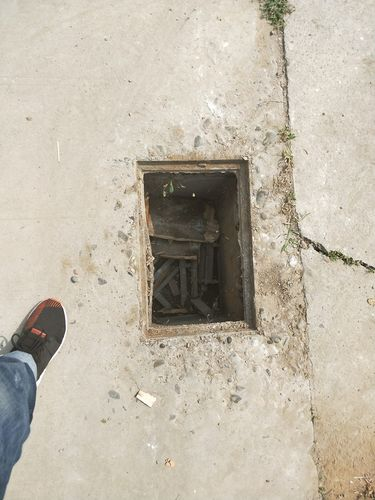lose: (106, 140, 293, 363)
